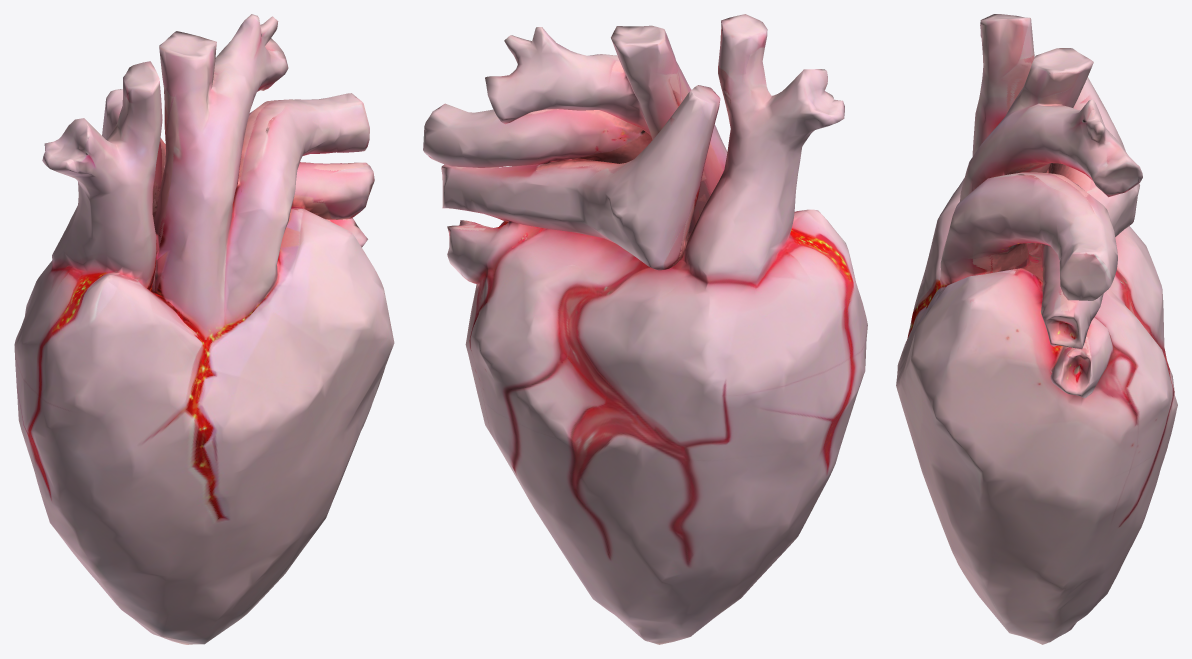
Rendered from heart.glb.
3 views of the same model, side by side, from view 1: azimuth 30°, elevation 25°; view 2: azimuth 150°, elevation 25°; view 3: azimuth 270°, elevation 25° (orthographic). The views are drawn at different scales.
Size of the model in its own units: 1.26 by 1.99 by 0.8452.
1 material, 1 textured.
